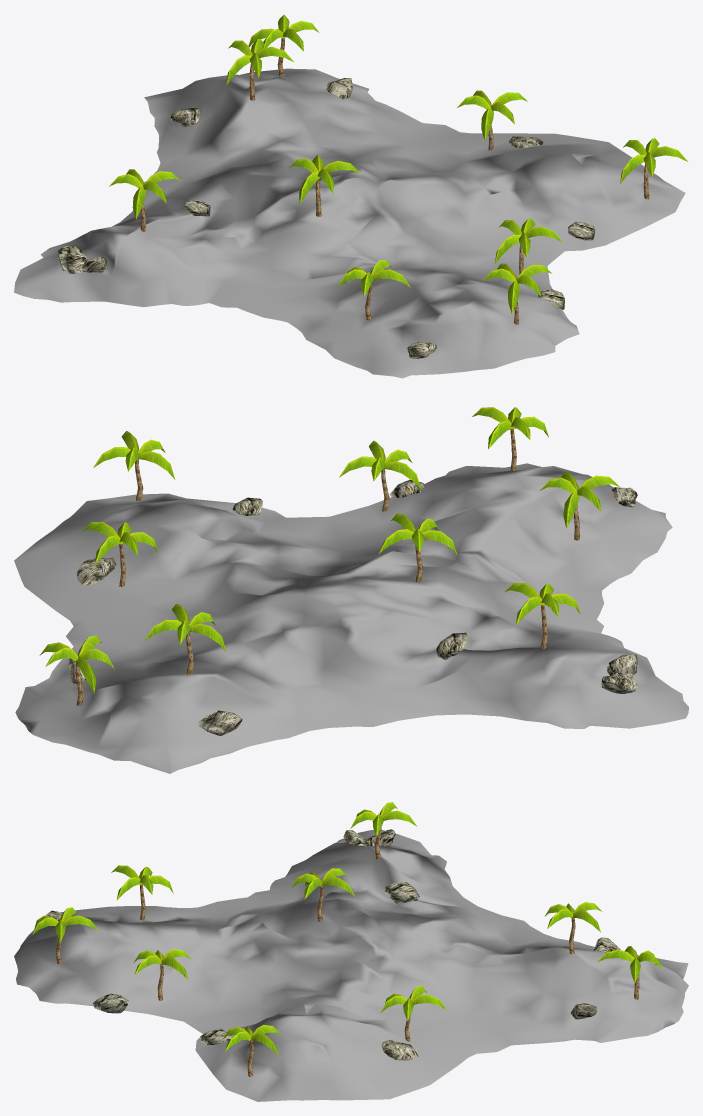
The model's file is desert_island_09.fbx.
The picture shows the model from 3 angles, top to bottom: view 1: azimuth 30°, elevation 25°; view 2: azimuth 150°, elevation 25°; view 3: azimuth 270°, elevation 25°; orthographic projection. The views are drawn at different scales.
Visible parts, largest first — view 1: desert_island_09; view 2: desert_island_09; view 3: desert_island_09.
Part boxes in pixels (bbox=[...]): desert_island_09: bbox=[14, 15, 687, 378]; desert_island_09: bbox=[14, 407, 688, 773]; desert_island_09: bbox=[14, 802, 688, 1101].
Bounding box in the file's own units: 0.6979 × 0.1021 × 0.7295.
2 materials, 1 textured.
